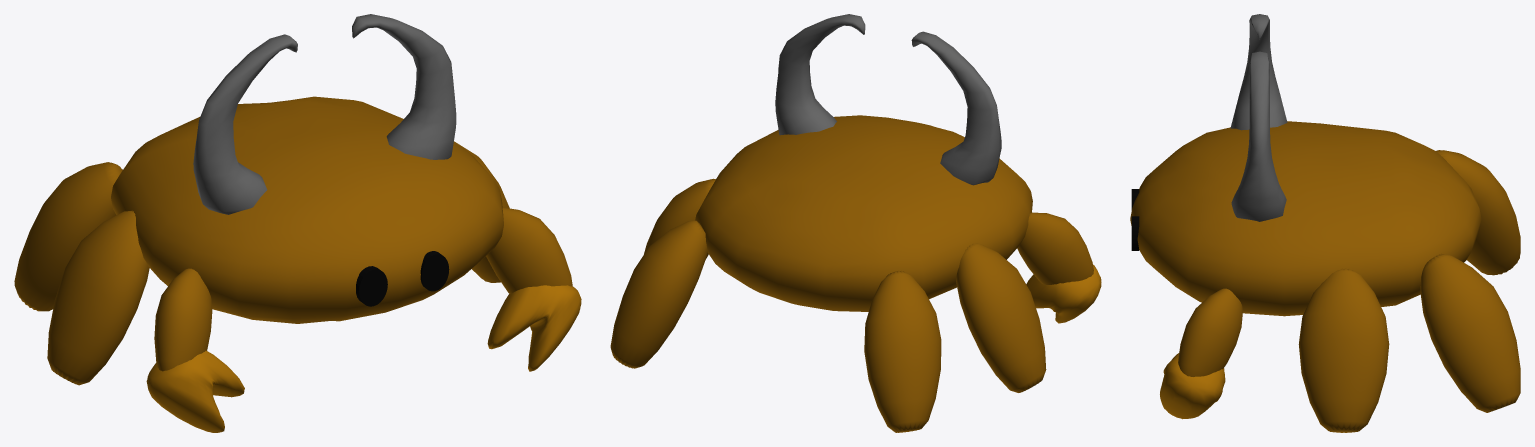
Rendered from crab.fbx.
3 views of the same model, side by side, from view 1: azimuth 30°, elevation 25°; view 2: azimuth 150°, elevation 25°; view 3: azimuth 270°, elevation 25° (orthographic). The views are drawn at different scales.
Visible parts, largest first — view 1: pSphere1, pCylinder2, pCylinder3, corne1, corne, pCube1, pCube2, pCylinder6, pCylinder1, pDisc1, pDisc2, pCylinder5; view 2: pSphere1, pCylinder3, pCylinder2, pCylinder4, corne1, corne, pCylinder1, pCube1, pCylinder5; view 3: pSphere1, pCylinder5, pCylinder4, corne, pCylinder3, pCylinder6, pCube2, corne1.
Boxes of the visible parts, bbox=[...] form: pSphere1: bbox=[111, 96, 503, 323]; pCylinder2: bbox=[47, 210, 149, 385]; pCylinder3: bbox=[14, 162, 122, 311]; corne1: bbox=[193, 34, 297, 214]; corne: bbox=[352, 14, 456, 159]; pCube1: bbox=[146, 350, 244, 432]; pCube2: bbox=[487, 285, 581, 371]; pCylinder6: bbox=[486, 207, 572, 293]; pCylinder1: bbox=[154, 268, 212, 371]; pDisc1: bbox=[356, 266, 387, 306]; pDisc2: bbox=[420, 251, 449, 291]; pCylinder5: bbox=[453, 141, 509, 282]; pSphere1: bbox=[695, 115, 1032, 311]; pCylinder3: bbox=[864, 270, 941, 432]; pCylinder2: bbox=[956, 243, 1046, 392]; pCylinder4: bbox=[610, 220, 707, 368]; corne1: bbox=[911, 31, 1001, 185]; corne: bbox=[775, 14, 865, 135]; pCylinder1: bbox=[1017, 212, 1093, 284]; pCube1: bbox=[1026, 264, 1101, 323]; pCylinder5: bbox=[644, 178, 715, 258]; pSphere1: bbox=[1130, 121, 1481, 316]; pCylinder5: bbox=[1298, 268, 1389, 432]; pCylinder4: bbox=[1420, 253, 1520, 412]; corne: bbox=[1231, 51, 1286, 221]; pCylinder3: bbox=[1436, 150, 1520, 275]; pCylinder6: bbox=[1178, 288, 1242, 376]; pCube2: bbox=[1160, 353, 1225, 419]; corne1: bbox=[1230, 14, 1287, 130].
Size of the model in its own units: 3.03 by 2.18 by 2.48.
